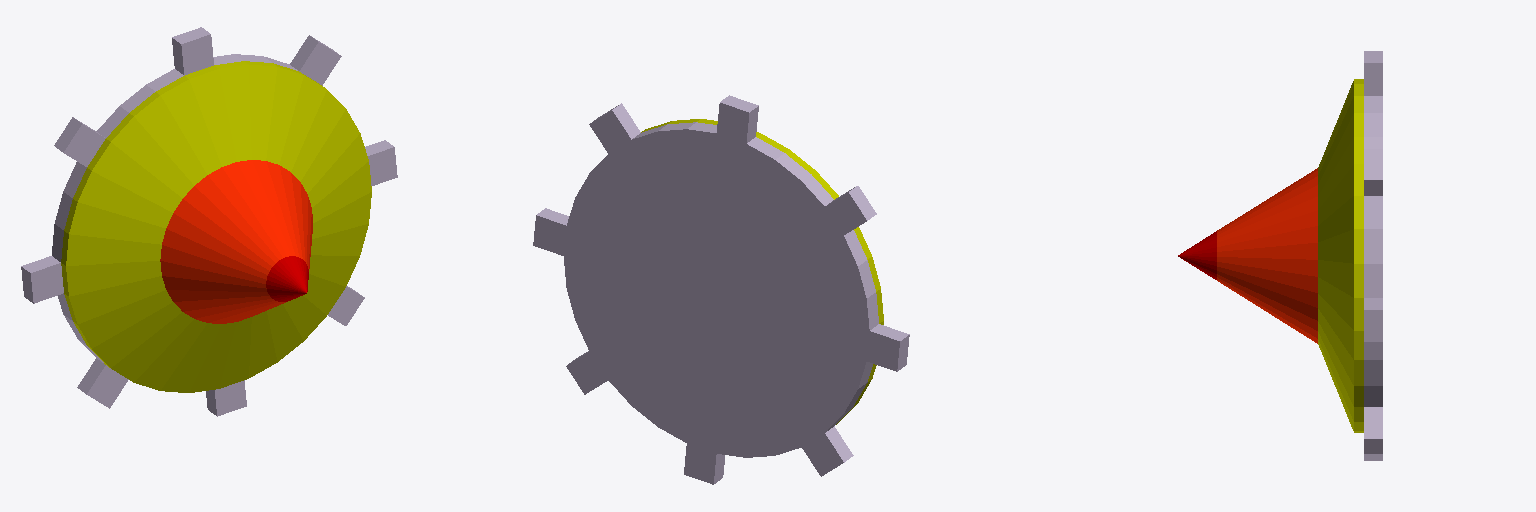
File: target.obj
3 views of the same model, side by side, from view 1: azimuth 30°, elevation 25°; view 2: azimuth 150°, elevation 25°; view 3: azimuth 270°, elevation 25° (orthographic).
Visible parts, largest first — view 1: Cone; view 2: Cone; view 3: Cone.
Part boxes in pixels (x1,y1,x2,y2): Cone: (21,27,397,416); Cone: (533,95,909,484); Cone: (1178,51,1382,460).
Size of the model in its own units: 2.4 by 2.4 by 1.16.